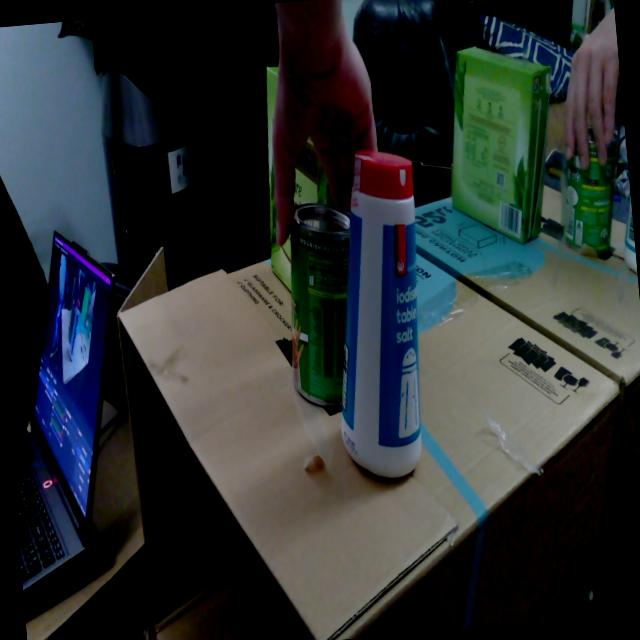nestle_milo_tin: (290, 202, 350, 405)
twinings_greentea_box: (266, 66, 291, 292), (293, 136, 333, 204)
woolworths_salt_bottle: (340, 150, 421, 477)
